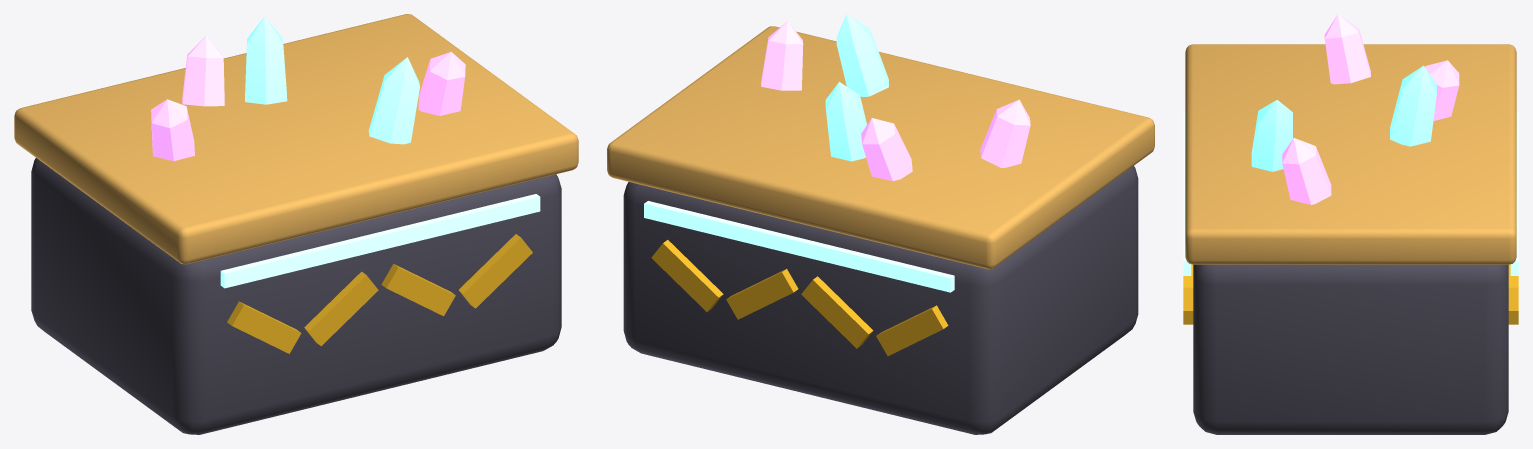
File: hurdle.glb
The picture shows the model from 3 angles, left to right: view 1: azimuth 30°, elevation 25°; view 2: azimuth 150°, elevation 25°; view 3: azimuth 270°, elevation 25°; orthographic projection. The views are drawn at different scales.
Visible parts, largest first — view 1: Hurdle; view 2: Hurdle; view 3: Hurdle.
Part boxes in pixels (x1,y1,x2,y2): Hurdle: [14, 14, 578, 434]; Hurdle: [607, 14, 1154, 434]; Hurdle: [1183, 14, 1518, 434].
Bounding box in the file's own units: 1.14 × 0.8065 × 0.85.
